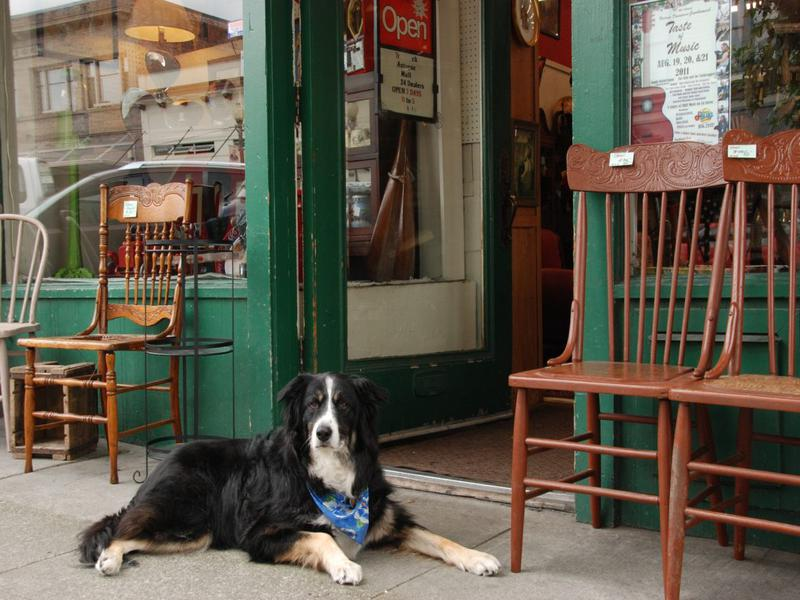dog_down: (72, 366, 510, 592)
